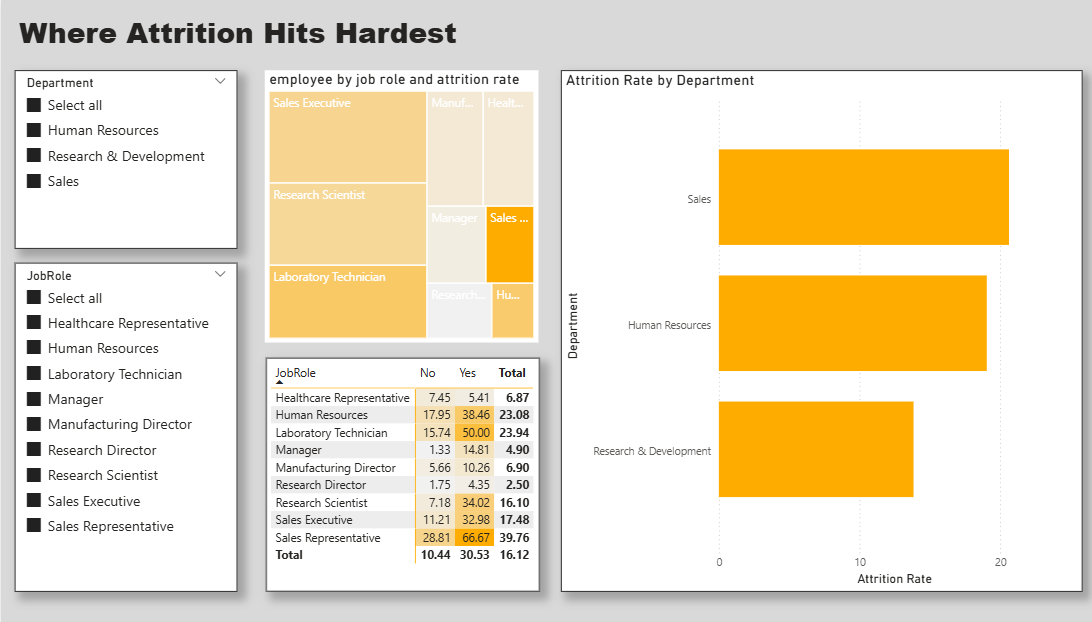

The dashboard page shown, as its layout file describes it:
{"tool":"powerbi","page":{"name":"Department Drill-Down","canvas":[1280,720],"ordinal":1},"visuals":[{"type":"clusteredBarChart","fields":{"Category":["hrdata.Department","hrdata.JobRole"],"Y":["hrdata.Attrition Rate"]},"box":[640,81.4,595.7,595.7],"z":0},{"type":"pivotTable","fields":{"Rows":["hrdata.JobRole"],"Columns":["hrdata.OverTime"],"Values":["hrdata.Attrition Rate"]},"box":[302.9,410,312.9,267.1],"z":1000},{"type":"slicer","fields":{"Values":["hrdata.Department"]},"box":[15.7,81.4,254.3,204.3],"z":2000},{"type":"slicer","fields":{"Values":["hrdata.JobRole"]},"box":[15.7,301.4,254.3,375.7],"z":3000},{"type":"treemap","title":"employee by job role and attrition rate","fields":{"Group":["hrdata.JobRole"],"Values":["Count(hrdata.EmployeeNumber)"]},"box":[301.4,81.4,312.9,311.4],"z":4000},{"type":"textbox","box":[15.7,10,984.3,60],"z":4001}]}

Visuals, with their boxes in screenshot pixels (x1, y1, x2, y2), scaled from the page's 1280x720 canvas onto the 1092x622 screenshot:
clusteredBarChart - hrdata.Department x hrdata.JobRole: 546, 70, 1054, 585
pivotTable - hrdata.JobRole x hrdata.OverTime: 258, 354, 525, 585
slicer - hrdata.Department: 13, 70, 230, 247
slicer - hrdata.JobRole: 13, 260, 230, 585
"employee by job role and attrition rate" treemap: 257, 70, 524, 339
textbox: 13, 9, 853, 60
